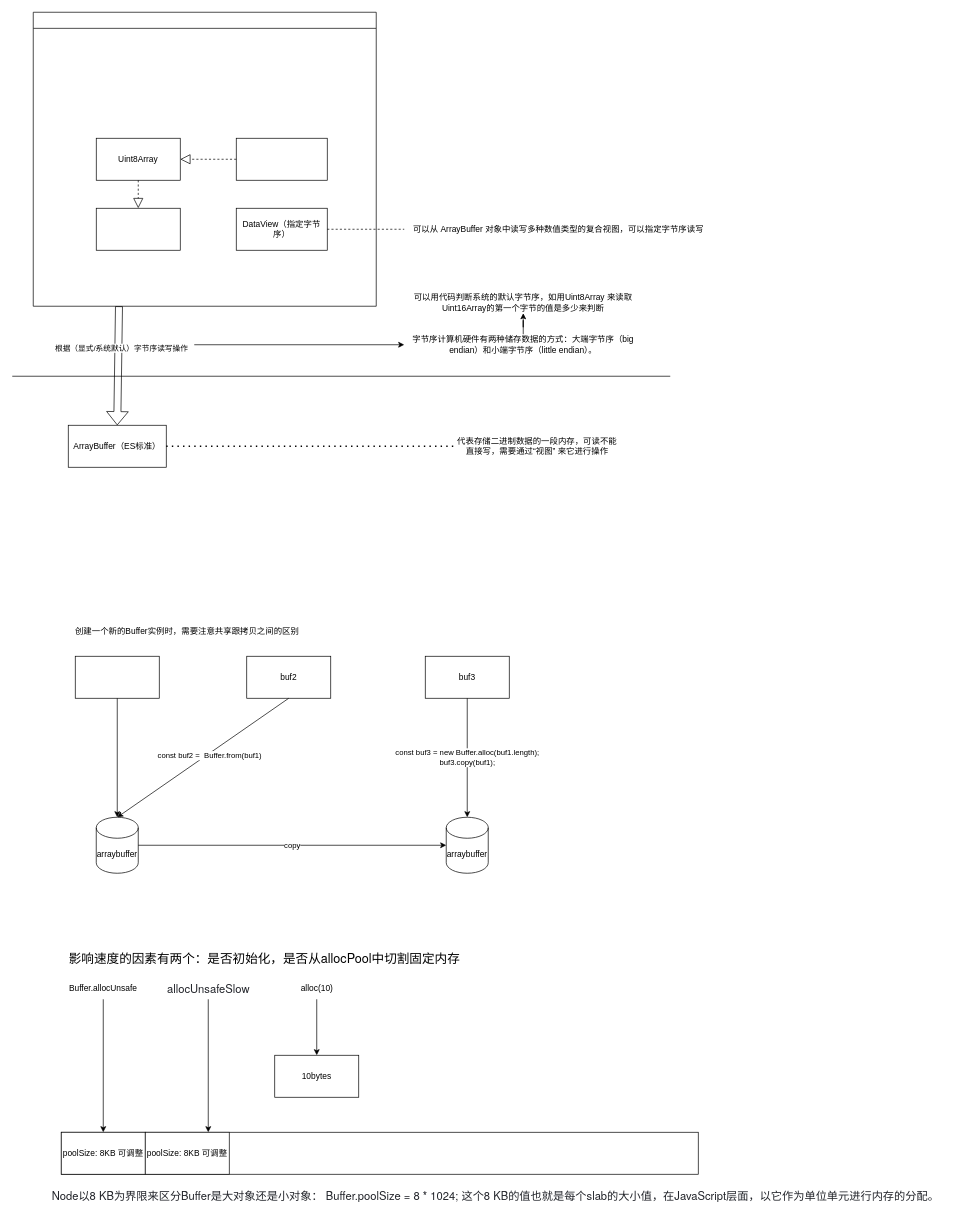
This 963x1222 diagram has some shape labels left out. The box of each missing label's shape, as (x1, y1, x2, y2) in pixels:
allocPool: (61, 1132, 698, 1174)
buf1: (75, 656, 159, 698)
Buffer（Nodejs提供）: (236, 138, 327, 180)
TypedArray: (96, 208, 180, 250)
视图: (33, 12, 376, 306)
